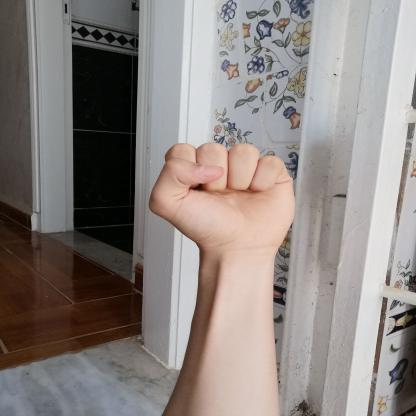SAD: (132, 129, 310, 259)
